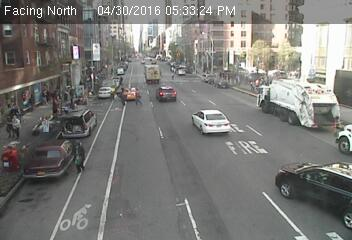neg: (90, 147, 118, 184), (299, 149, 327, 186), (33, 196, 59, 231), (117, 113, 139, 142), (262, 168, 282, 195), (30, 118, 49, 144), (137, 56, 155, 80), (65, 186, 82, 208), (19, 160, 35, 182), (89, 120, 102, 137), (178, 46, 191, 63), (206, 55, 219, 72), (295, 97, 308, 114), (156, 49, 168, 64), (192, 62, 203, 77), (217, 53, 226, 65), (327, 116, 336, 128), (306, 59, 314, 70), (188, 73, 194, 81)
pos: (66, 139, 91, 173), (9, 115, 27, 139), (115, 87, 131, 107), (131, 88, 145, 107), (25, 93, 38, 112), (60, 89, 71, 104), (248, 80, 258, 93), (168, 69, 177, 81), (117, 76, 125, 87)
